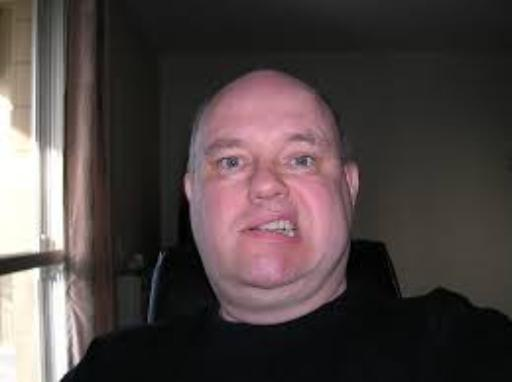left_eye: (285, 154, 319, 172)
left_lip_corner: (289, 230, 307, 242)
right_eye: (213, 156, 249, 174)
right_lip_corner: (235, 225, 253, 240)
